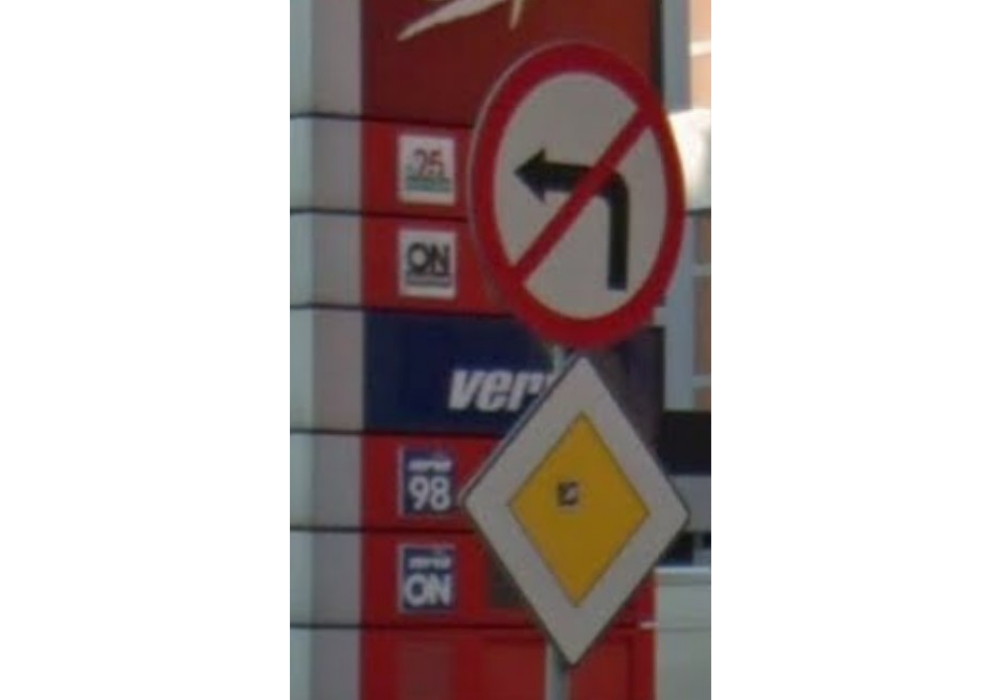ON: (396, 226, 458, 300), (398, 542, 459, 613)
PB98: (396, 447, 457, 516)
